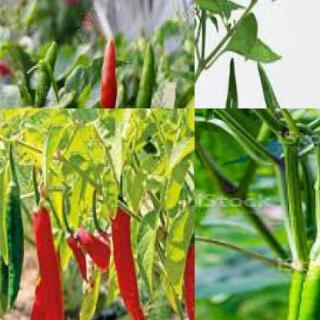green_chilli: (248, 238, 320, 320), (5, 183, 23, 310), (32, 38, 62, 108), (274, 258, 306, 319), (134, 39, 158, 108), (257, 63, 286, 108), (223, 56, 239, 108)
